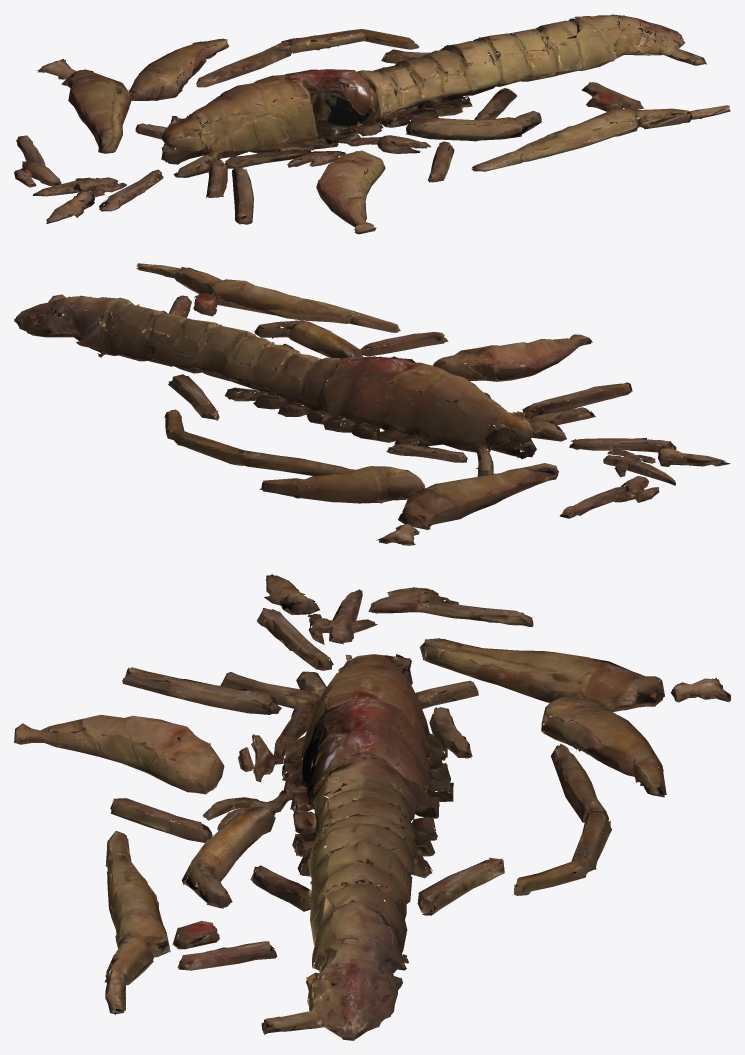
File: chitin.glb
The picture shows the model from 3 angles, top to bottom: view 1: azimuth 30°, elevation 25°; view 2: azimuth 150°, elevation 25°; view 3: azimuth 270°, elevation 25°; orthographic projection. The views are drawn at different scales.
Parts seen in each view (by area): view 1: Mesh_0; view 2: Mesh_0; view 3: Mesh_0.
Boxes of the visible parts, box(x1,y1,x2,y2) form: Mesh_0: box(14, 14, 730, 234); Mesh_0: box(14, 263, 730, 545); Mesh_0: box(14, 574, 730, 1040).
Bounding box in the file's own units: 2 × 0.1723 × 1.31.
Materials: 1 (1 with a texture image).
